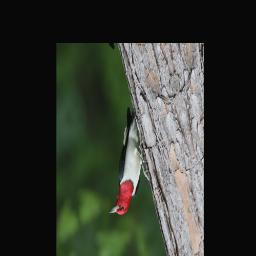Woodpecker: (89, 102, 156, 225)
